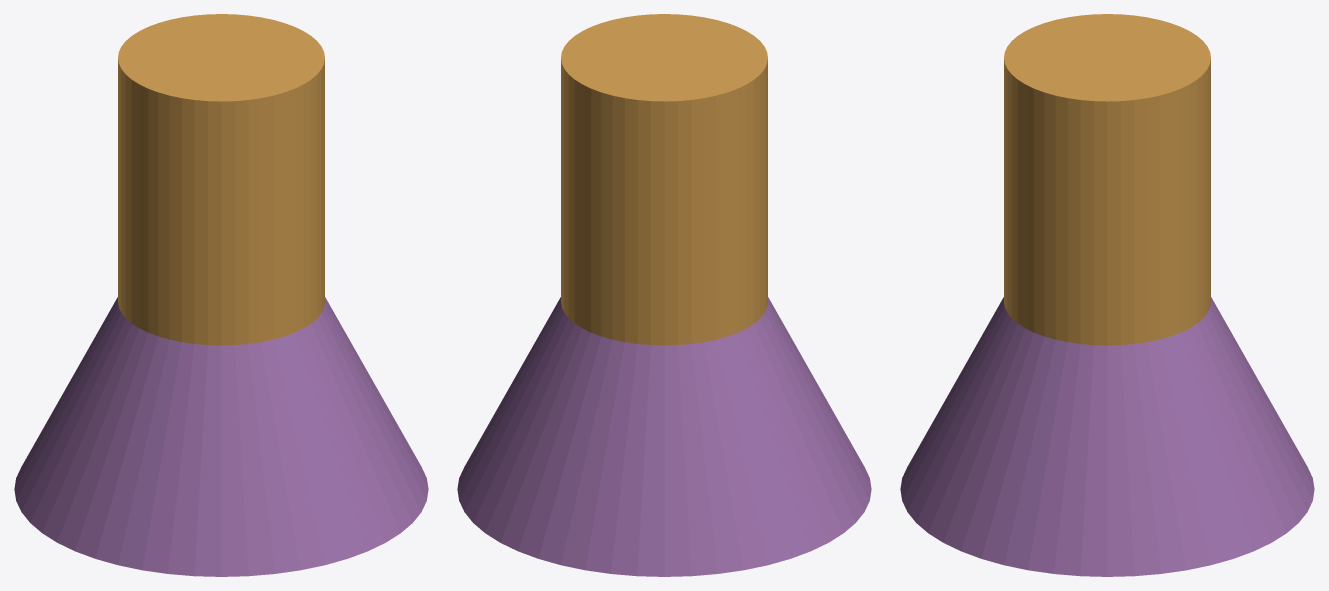
File: flask_is_filled.glb
3 views of the same model, side by side, from view 1: azimuth 30°, elevation 25°; view 2: azimuth 150°, elevation 25°; view 3: azimuth 270°, elevation 25° (orthographic).
Parts seen in each view (by area): view 1: Mesh_Mesh_head_geo.001_lambert2SG.001; view 2: Mesh_Mesh_head_geo.001_lambert2SG.001; view 3: Mesh_Mesh_head_geo.001_lambert2SG.001.
Part boxes in pixels (bbox=[...]): Mesh_Mesh_head_geo.001_lambert2SG.001: bbox=[14, 14, 428, 576]; Mesh_Mesh_head_geo.001_lambert2SG.001: bbox=[457, 14, 871, 576]; Mesh_Mesh_head_geo.001_lambert2SG.001: bbox=[900, 14, 1314, 576].
Bounding box in the file's own units: 0.02 × 0.023 × 0.02.
